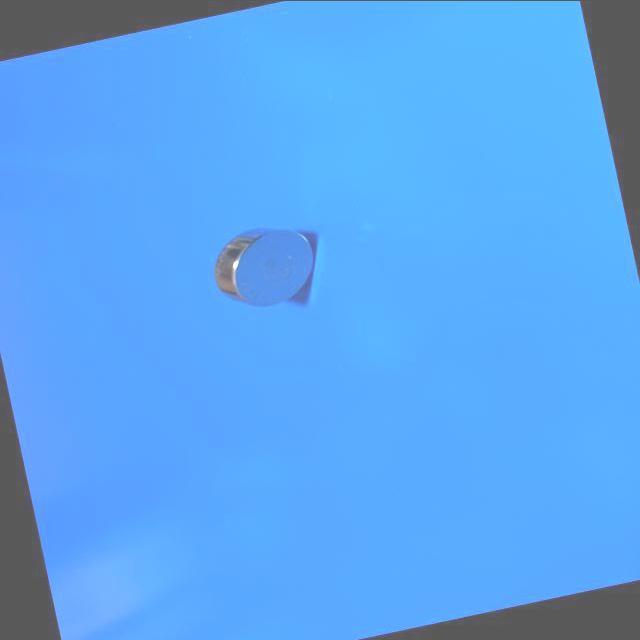COIN: (204, 218, 324, 316)
